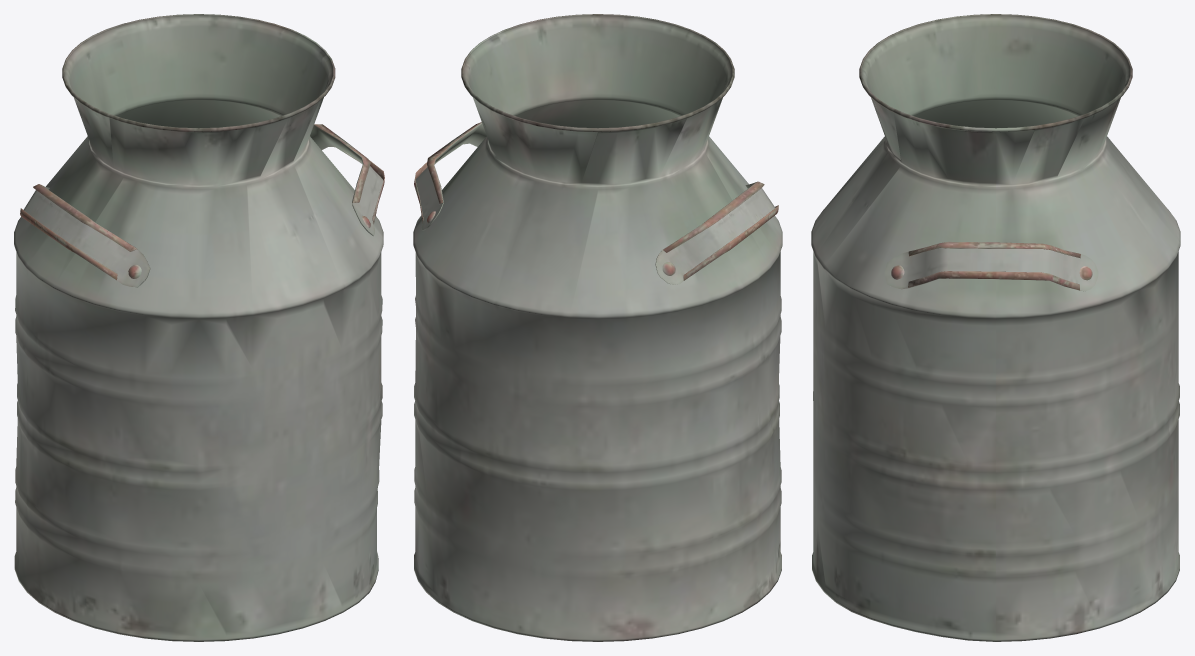
The model's file is metal_jug.glb.
The picture shows the model from 3 angles, left to right: view 1: azimuth 30°, elevation 25°; view 2: azimuth 150°, elevation 25°; view 3: azimuth 270°, elevation 25°; orthographic projection.
Visible parts, largest first — view 1: metal_jug; view 2: metal_jug; view 3: metal_jug.
Part boxes in pixels (bbox=[...]): metal_jug: bbox=[14, 14, 384, 641]; metal_jug: bbox=[413, 14, 782, 641]; metal_jug: bbox=[811, 14, 1180, 641].
Size of the model in its own units: 0.1968 by 0.2875 by 0.1955.
1 material, 1 textured.
